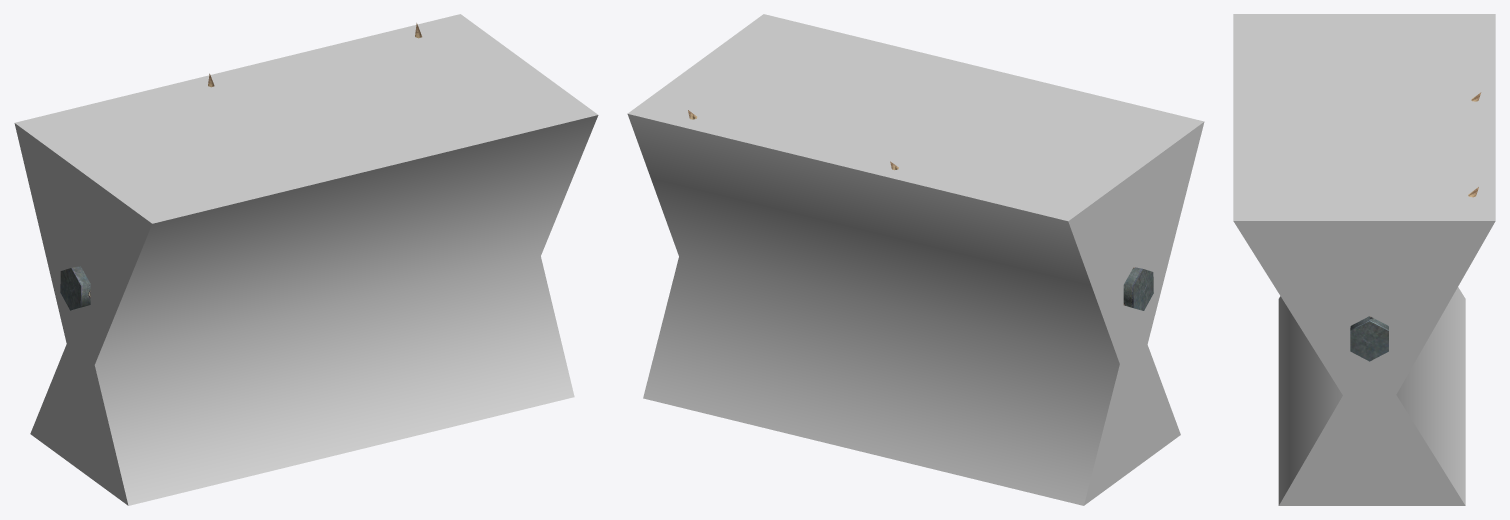
The model's file is Scene_Build_XuanWuShan_HuLan_3.FBX.
3 renders of one model, left to right at view 1: azimuth 30°, elevation 25°; view 2: azimuth 150°, elevation 25°; view 3: azimuth 270°, elevation 25°, orthographic. The views are drawn at different scales.
Parts seen in each view (by area): view 1: Scene_Build_XuanWuShan_HuLan_3_Xcm, Scene_Build_XuanWuShan_HuLan_3; view 2: Scene_Build_XuanWuShan_HuLan_3_Xcm, Scene_Build_XuanWuShan_HuLan_3; view 3: Scene_Build_XuanWuShan_HuLan_3_Xcm, Scene_Build_XuanWuShan_HuLan_3.
Part boxes in pixels (x1,y1,x2,y2): Scene_Build_XuanWuShan_HuLan_3_Xcm: [14, 14, 598, 505]; Scene_Build_XuanWuShan_HuLan_3: [60, 23, 422, 310]; Scene_Build_XuanWuShan_HuLan_3_Xcm: [627, 14, 1204, 505]; Scene_Build_XuanWuShan_HuLan_3: [688, 110, 1153, 310]; Scene_Build_XuanWuShan_HuLan_3_Xcm: [1233, 14, 1495, 505]; Scene_Build_XuanWuShan_HuLan_3: [1350, 92, 1481, 361].
Bounding box in the file's own units: 401 × 254 × 205.
